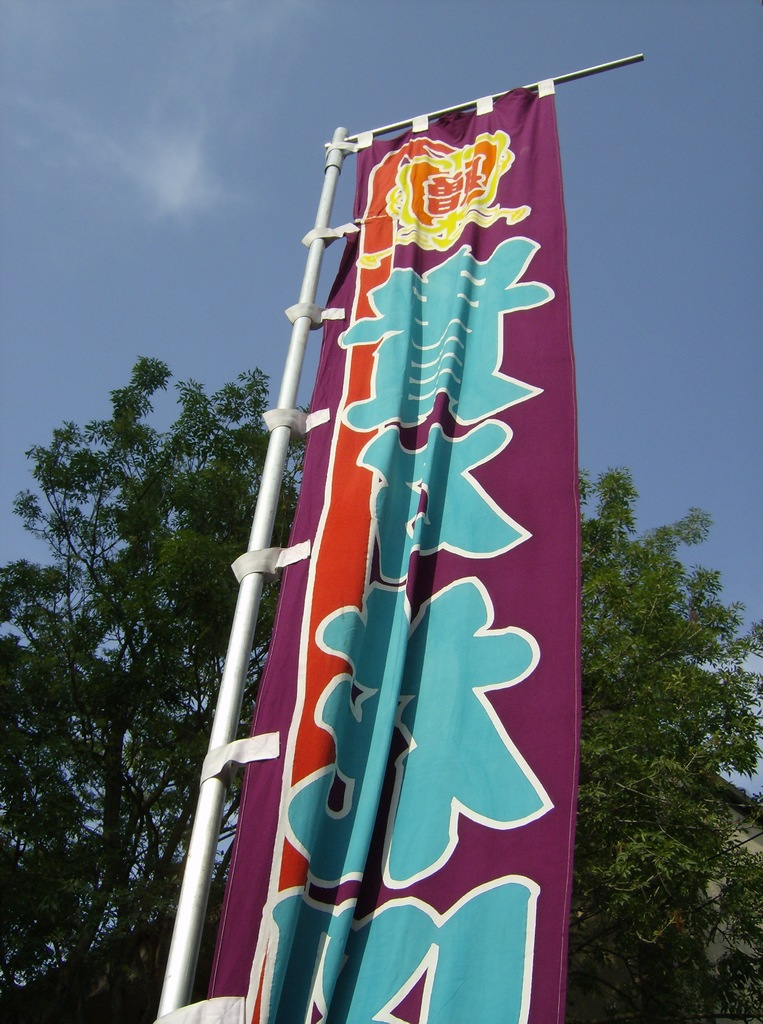Tree: (0, 352, 763, 1024)
